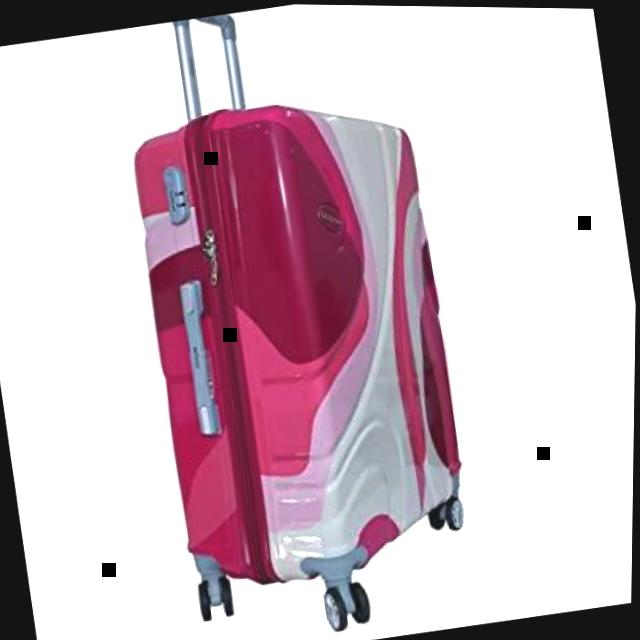luggage: (109, 70, 494, 612)
